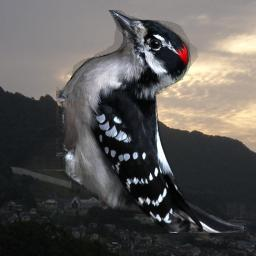Woodpecker: (56, 10, 244, 233)
